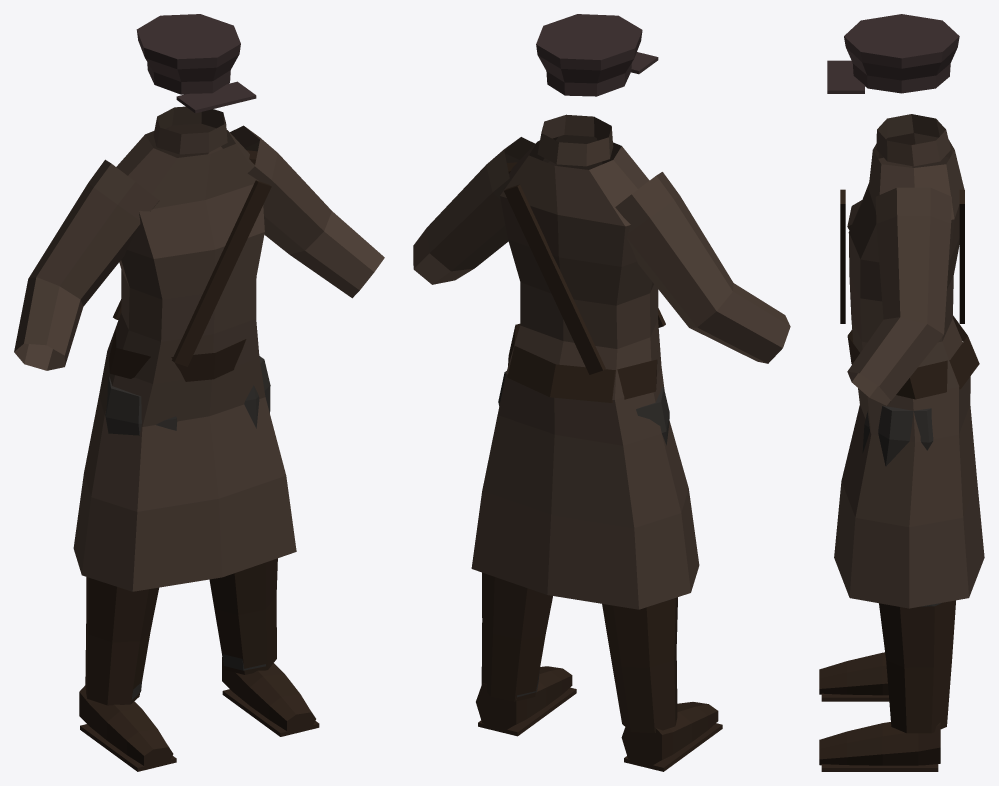
The model's file is tenue_marley_officier_lod1.glb.
3 renders of one model, left to right at view 1: azimuth 30°, elevation 25°; view 2: azimuth 150°, elevation 25°; view 3: azimuth 270°, elevation 25°, orthographic. The views are drawn at different scales.
Visible parts, largest first — view 1: pelvis, spine_02, upperarm_r, head, calf_r, calf_l, upperarm_l, lowerarm_r, foot_r, foot_l, lowerarm_l, neck_01 (+2 smaller); view 2: pelvis, spine_02, upperarm_r, calf_r, head, calf_l, upperarm_l, lowerarm_r, foot_r, foot_l, neck_01, lowerarm_l (+1 smaller); view 3: pelvis, spine_02, upperarm_l, calf_l, head, foot_l, lowerarm_l, foot_r, neck_01, thigh_l.
Part boxes in pixels (x1,y1,x2,y2): pelvis: (73,330,296,591); spine_02: (99,123,271,426); upperarm_r: (28,159,159,306); head: (136,14,256,113); calf_r: (85,577,158,705); calf_l: (209,558,277,674); upperarm_l: (208,125,331,254); lowerarm_r: (14,277,83,370); foot_r: (79,685,176,771); foot_l: (222,657,319,736); lowerarm_l: (289,211,384,298); neck_01: (153,106,227,154); pelvis: (471,323,699,609); spine_02: (497,135,665,445); upperarm_r: (615,172,733,327); calf_r: (602,597,677,732); head: (536,14,658,96); calf_l: (481,572,552,701); upperarm_l: (426,137,556,271); lowerarm_r: (689,283,790,363); foot_r: (621,702,722,771); foot_l: (476,666,576,736); neck_01: (537,114,613,166); lowerarm_l: (413,228,473,284); pelvis: (834,315,984,608); spine_02: (840,133,970,442); upperarm_l: (875,187,951,334); calf_l: (879,600,955,733); head: (827,14,959,93); foot_l: (819,722,940,771); lowerarm_l: (847,317,943,405); foot_r: (819,652,889,701); neck_01: (876,114,950,166); thigh_l: (862,406,933,466).
Bounding box in the file's own units: 0.9579 × 1.71 × 0.371.
